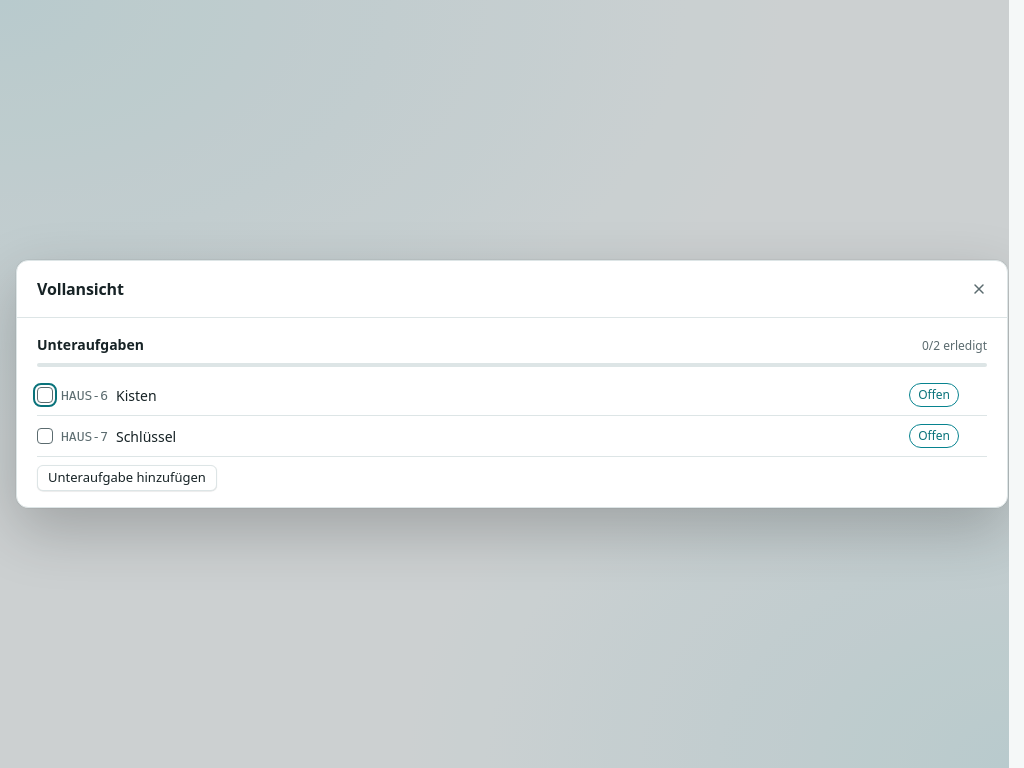
Test: "Unteraufgaben": check mark and status menu (VH-1) › asks inline in the section in the full view, and gives the focus back after "Abbrechen"
Click the checkbox named "HAUS-6 erledigt". click: point(45, 395)
box: [37,387,53,403]
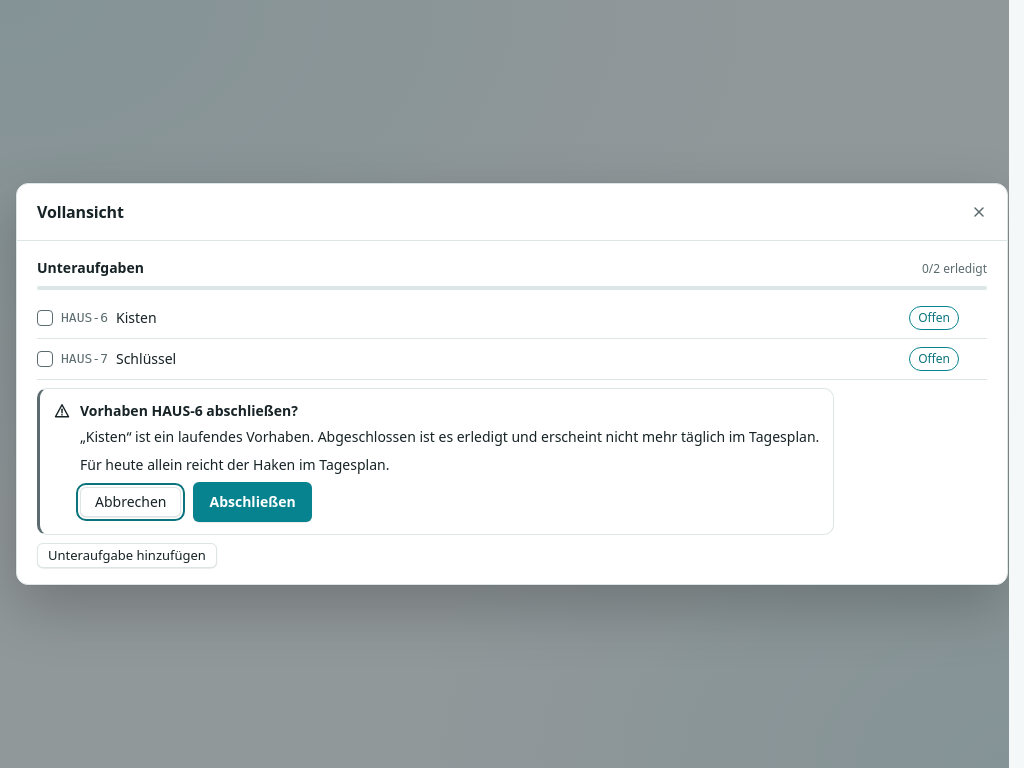
Click the button "Abbrechen". click: point(131, 502)
box: [80,486,182,517]
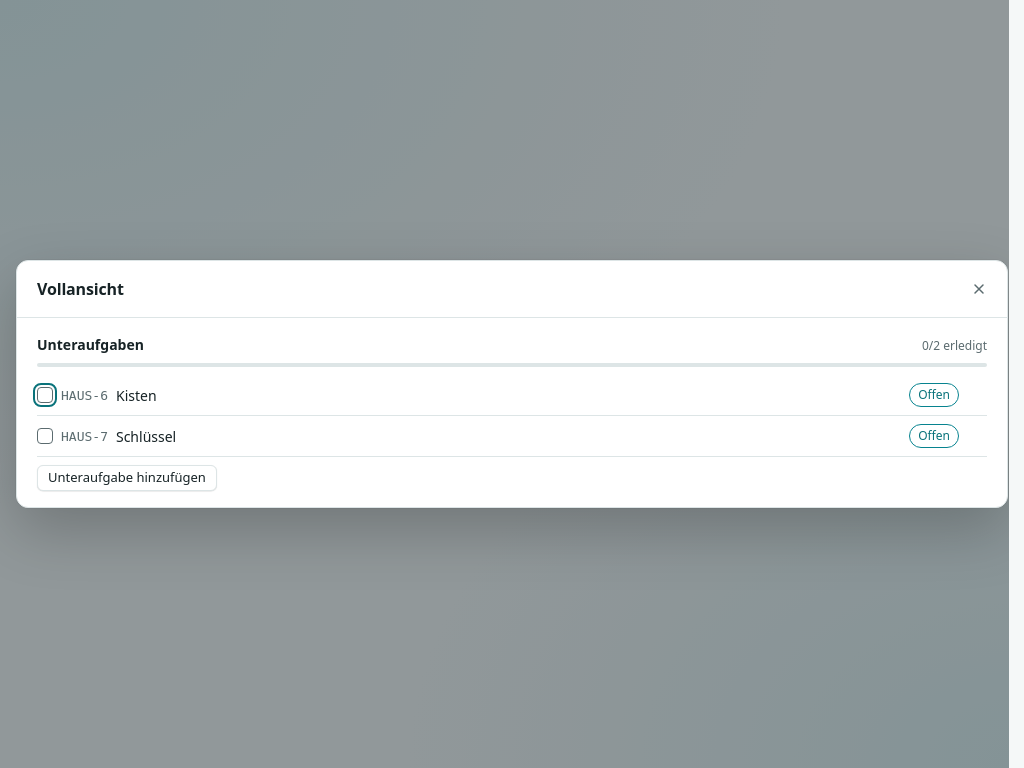
Expected: the heading "Vorhaben HAUS-6 abschließen?" is gone
